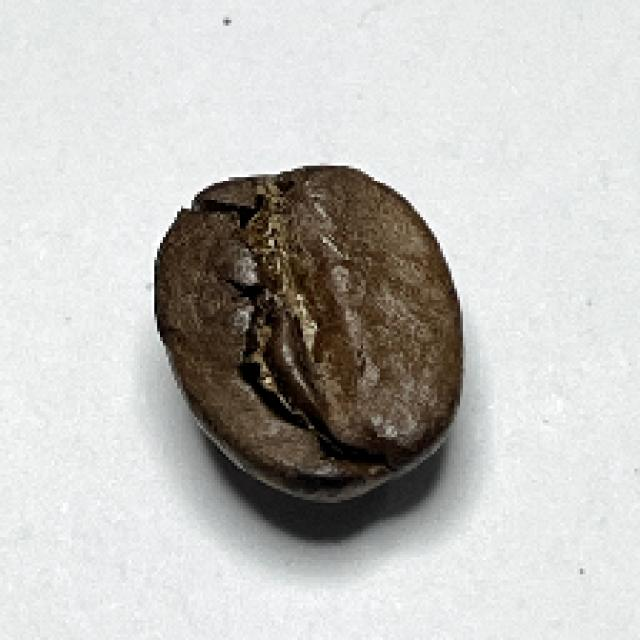bean: (148, 165, 466, 503)
